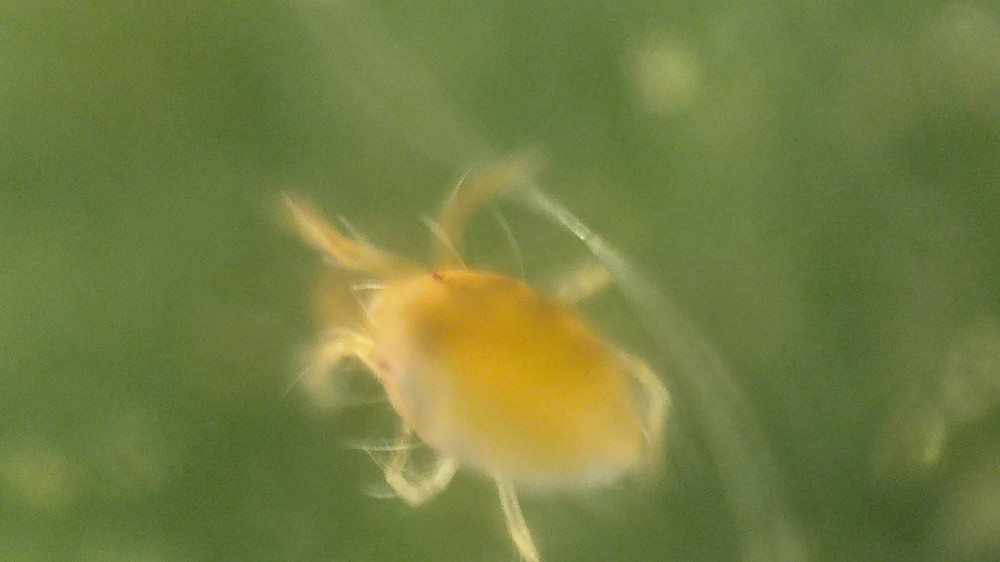Aracnido Rojo: (204, 132, 727, 546)
